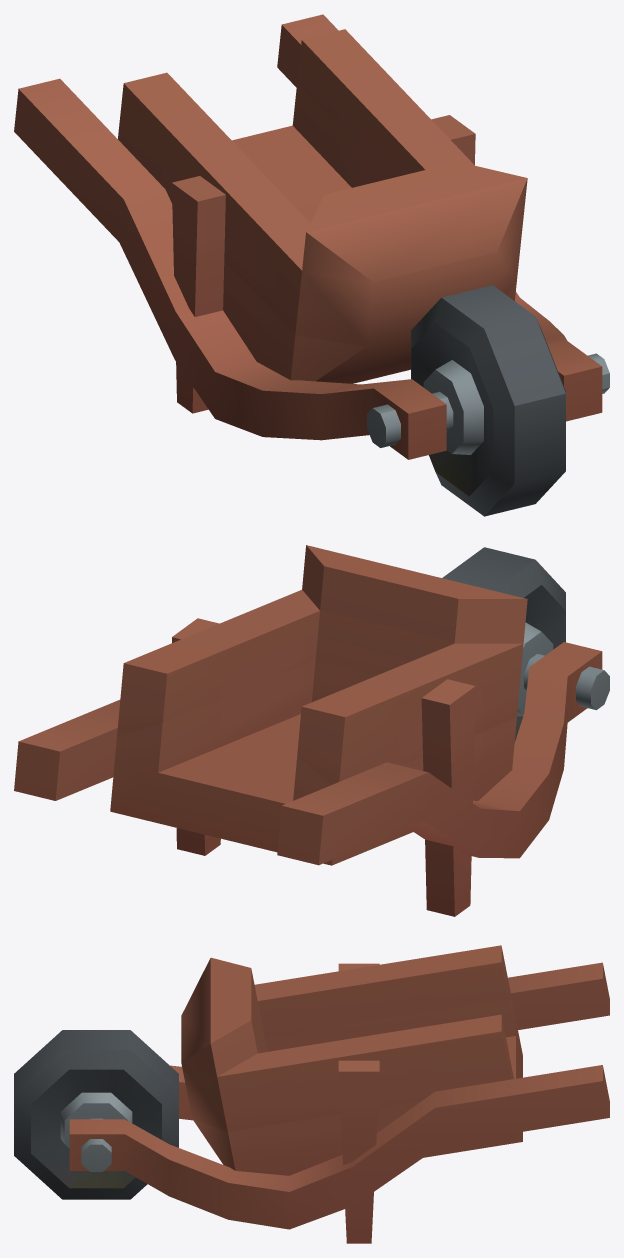
Rendered from wheelbarrow.glb.
3 views of the same model, one above another, from view 1: azimuth 30°, elevation 25°; view 2: azimuth 150°, elevation 25°; view 3: azimuth 270°, elevation 25° (orthographic). The views are drawn at different scales.
Visible parts, largest first — view 1: wheelbarrow; view 2: wheelbarrow; view 3: wheelbarrow.
Part boxes in pixels (bbox=[...]): wheelbarrow: bbox=[14, 14, 609, 516]; wheelbarrow: bbox=[14, 545, 609, 916]; wheelbarrow: bbox=[14, 945, 609, 1243].
Bounding box in the file's own units: 0.238 × 0.1884 × 0.5057.
Materials: 1 (1 with a texture image).
